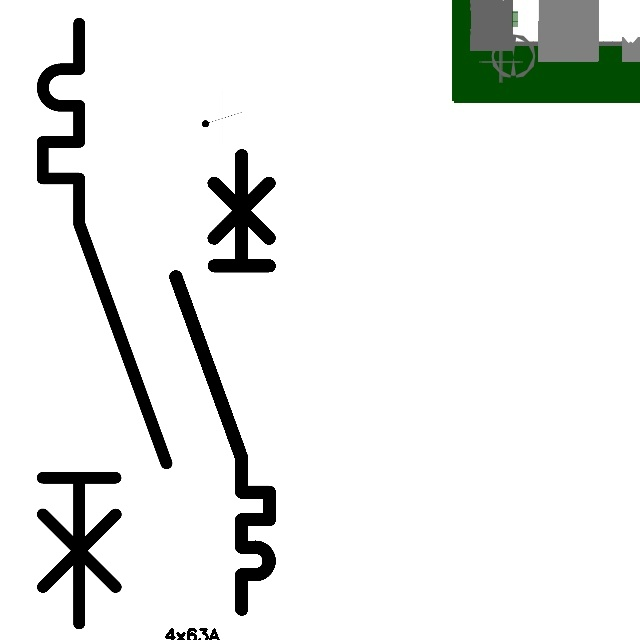interruptor_termomagnetico: (27, 8, 181, 639), (164, 143, 281, 620)
